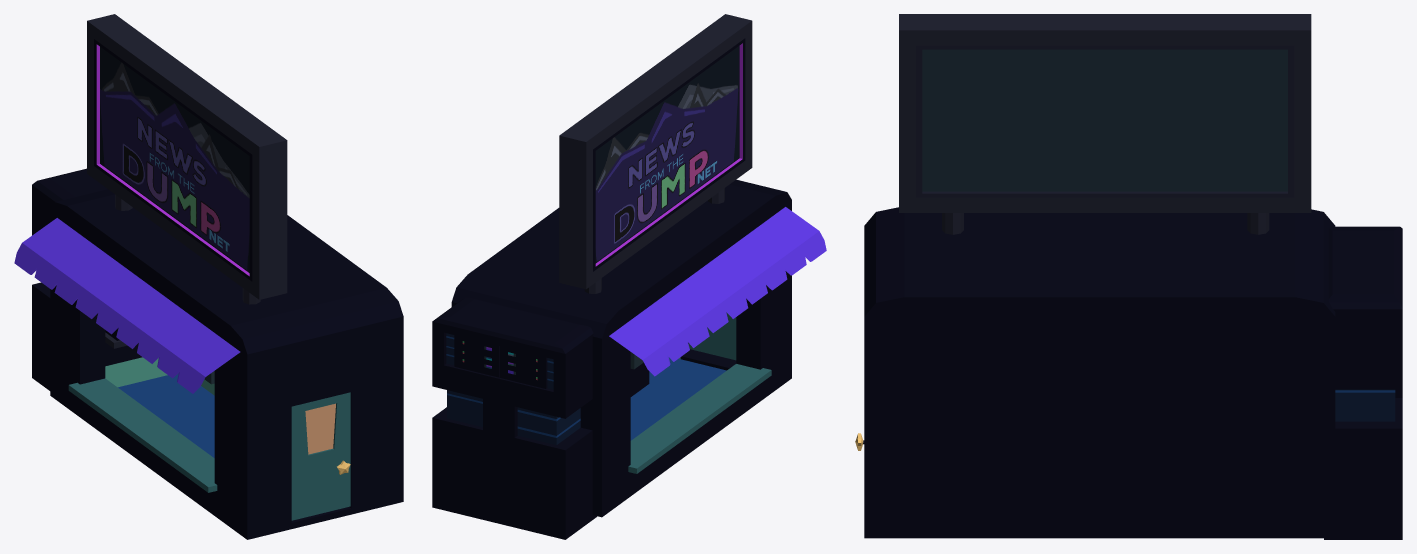
The model's file is Building_StreetCart07.fbx.
3 renders of one model, left to right at view 1: azimuth 30°, elevation 25°; view 2: azimuth 150°, elevation 25°; view 3: azimuth 270°, elevation 25°, orthographic. The views are drawn at different scales.
Visible parts, largest first — view 1: Cube.738, Cube.743, Cube.739, Cube.742; view 2: Cube.738, Cube.742, Cube.743, Cube.739, Cube.741; view 3: Cube.738, Cube.743, Cube.742.
Part boxes in pixels (<box>): Cube.738: <box>14,189,403,539</box>; Cube.743: <box>87,14,287,304</box>; Cube.739: <box>291,392,350,520</box>; Cube.742: <box>32,168,107,390</box>; Cube.738: <box>451,179,826,517</box>; Cube.742: <box>432,297,596,539</box>; Cube.743: <box>559,14,752,293</box>; Cube.739: <box>688,312,736,360</box>; Cube.741: <box>630,362,649,396</box>; Cube.738: <box>864,207,1335,538</box>; Cube.743: <box>899,14,1311,234</box>; Cube.742: <box>1324,226,1402,539</box>.
Bounding box in the file's own units: 218 × 394 × 429.
